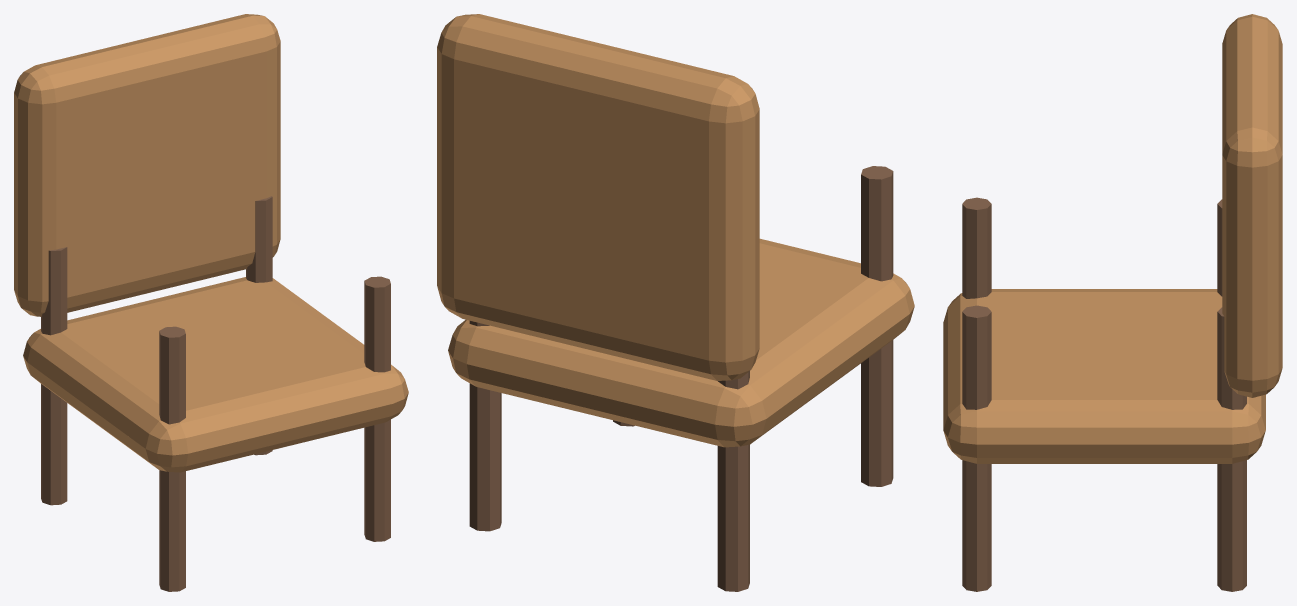
The model's file is home_chair.glb.
3 renders of one model, left to right at view 1: azimuth 30°, elevation 25°; view 2: azimuth 150°, elevation 25°; view 3: azimuth 270°, elevation 25°, orthographic. The views are drawn at different scales.
Parts seen in each view (by area): view 1: chair; view 2: chair; view 3: chair.
Part boxes in pixels (bbox=[...]): chair: bbox=[14, 14, 408, 591]; chair: bbox=[437, 14, 914, 591]; chair: bbox=[943, 14, 1282, 591].
Bounding box in the file's own units: 0.48 × 0.755 × 0.505.
